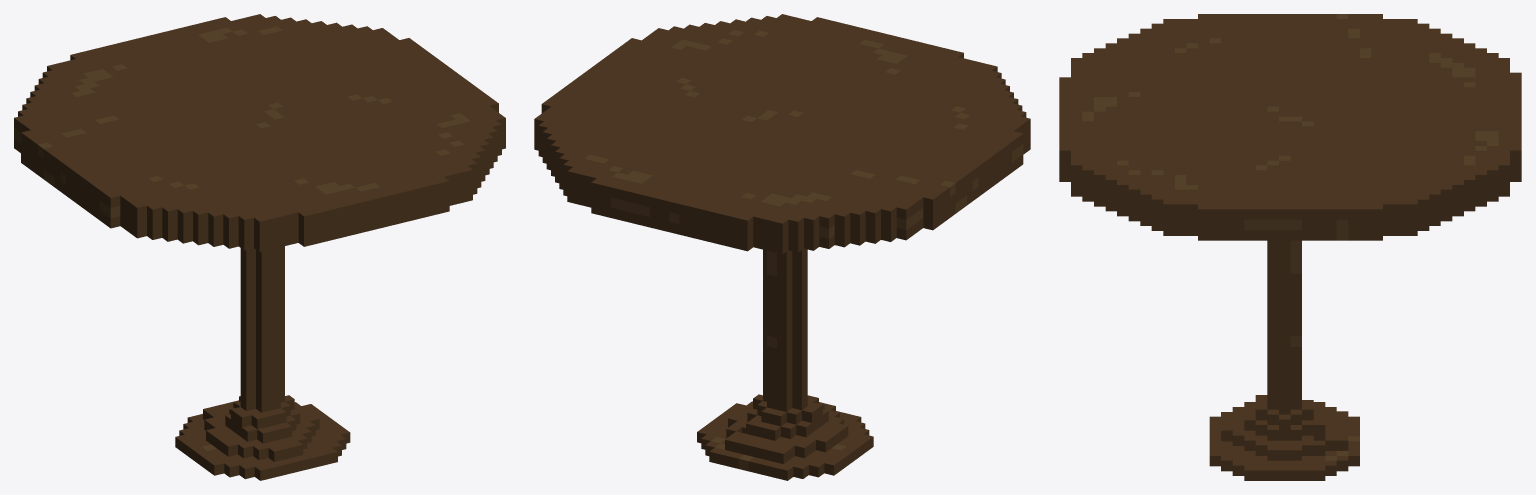
File: malenkiy_stol.obj
3 views of the same model, side by side, from view 1: azimuth 30°, elevation 25°; view 2: azimuth 150°, elevation 25°; view 3: azimuth 270°, elevation 25° (orthographic). The views are drawn at different scales.
Bounding box in the file's own units: 4 × 3.2 × 4.
Materials: 1 (1 with a texture image).
